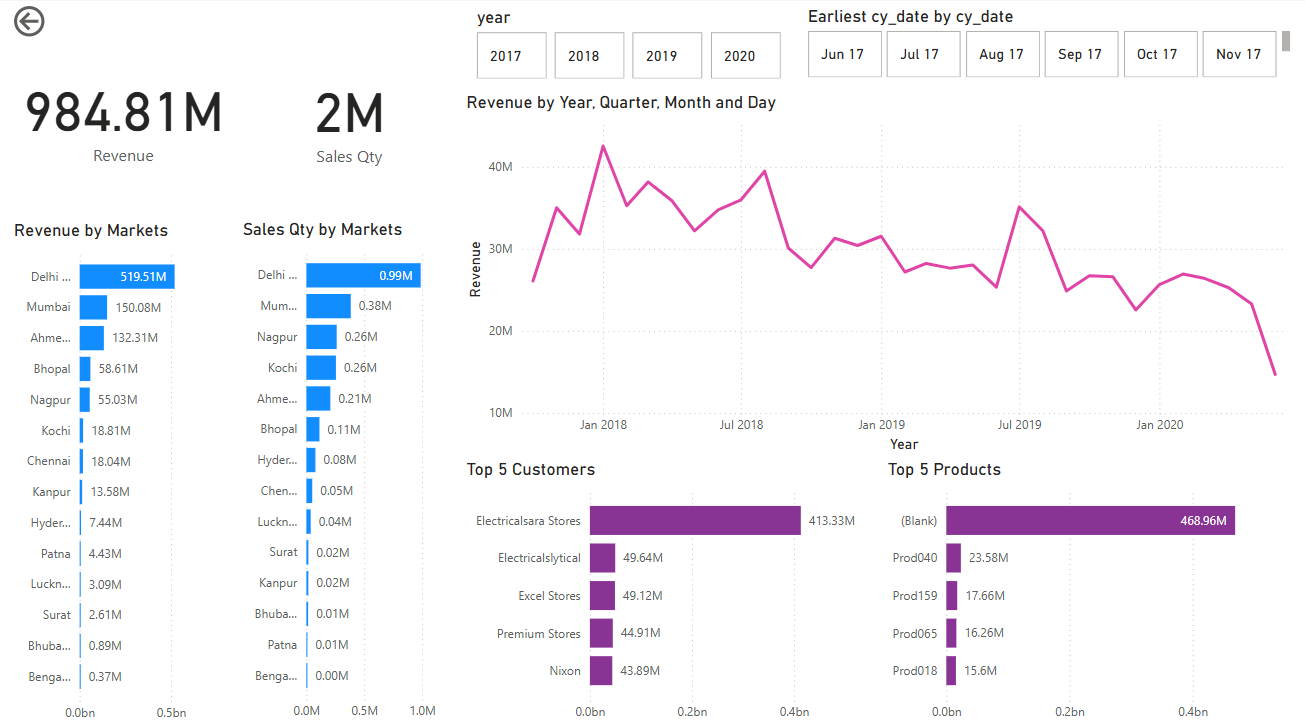

This screenshot's page, from the dashboard's own definition file:
{"tool":"powerbi","page":{"name":"Page 1","canvas":[1280,720],"ordinal":0},"visuals":[{"type":"card","fields":{"Values":["BaseMeasures.Revenue"]},"box":[0,0,226.2,215.2],"z":0},{"type":"card","fields":{"Values":["BaseMeasures.Sales Qty"]},"box":[226.4,1.4,220.9,226.4],"z":1000},{"type":"actionButton","box":[0,0,100,40],"z":2000},{"type":"clusteredBarChart","title":"Revenue by Markets","fields":{"Y":["BaseMeasures.Revenue"],"Category":["sales markets.markets_name"]},"box":[0,215.4,226.4,505],"z":3000},{"type":"clusteredBarChart","title":"Sales Qty by Markets","fields":{"Y":["BaseMeasures.Sales Qty"],"Category":["sales markets.markets_name"]},"box":[226.2,215.2,221.3,505],"z":4000},{"type":"advancedSlicerVisual","fields":{"Values":["sales date.year"]},"box":[447.3,1.4,332,90.6],"z":5000},{"type":"advancedSlicerVisual","fields":{"Values":["sales date.cy_date"]},"box":[773.9,0,506.3,90.6],"z":6000},{"type":"clusteredBarChart","title":"Top 5 Customers","fields":{"Y":["BaseMeasures.Revenue"],"Category":["sales customers.custmer_name"]},"box":[447.3,451.5,415.8,269],"z":7000},{"type":"clusteredBarChart","title":"Top 5 Products","fields":{"Y":["BaseMeasures.Revenue"],"Category":["sales products.product_code"]},"box":[863.1,451.5,417.2,269],"z":8000},{"type":"lineChart","fields":{"Y":["BaseMeasures.Revenue"],"Category":["sales date.cy_date.Variation.Date Hierarchy.Year","sales date.cy_date.Variation.Date Hierarchy.Quarter","sales date.cy_date.Variation.Date Hierarchy.Month","sales date.cy_date.Variation.Date Hierarchy.Day"]},"box":[447.3,90.6,832.9,360.9],"z":9000}]}

Visuals, with their boxes in screenshot pixels (x1, y1, x2, y2), scaled from the page's 1280x720 canvas onto the 1305x723 screenshot:
card - BaseMeasures.Revenue: bbox=[0, 0, 231, 216]
card - BaseMeasures.Sales Qty: bbox=[231, 1, 456, 229]
actionButton: bbox=[0, 0, 102, 40]
"Revenue by Markets" clusteredBarChart: bbox=[0, 216, 231, 722]
"Sales Qty by Markets" clusteredBarChart: bbox=[231, 216, 456, 722]
advancedSlicerVisual - sales date.year: bbox=[456, 1, 795, 92]
advancedSlicerVisual - sales date.cy_date: bbox=[789, 0, 1304, 91]
"Top 5 Customers" clusteredBarChart: bbox=[456, 453, 880, 722]
"Top 5 Products" clusteredBarChart: bbox=[880, 453, 1304, 722]
lineChart - BaseMeasures.Revenue x sales date.cy_date.Variation.Date Hierarchy.Year: bbox=[456, 91, 1304, 453]
